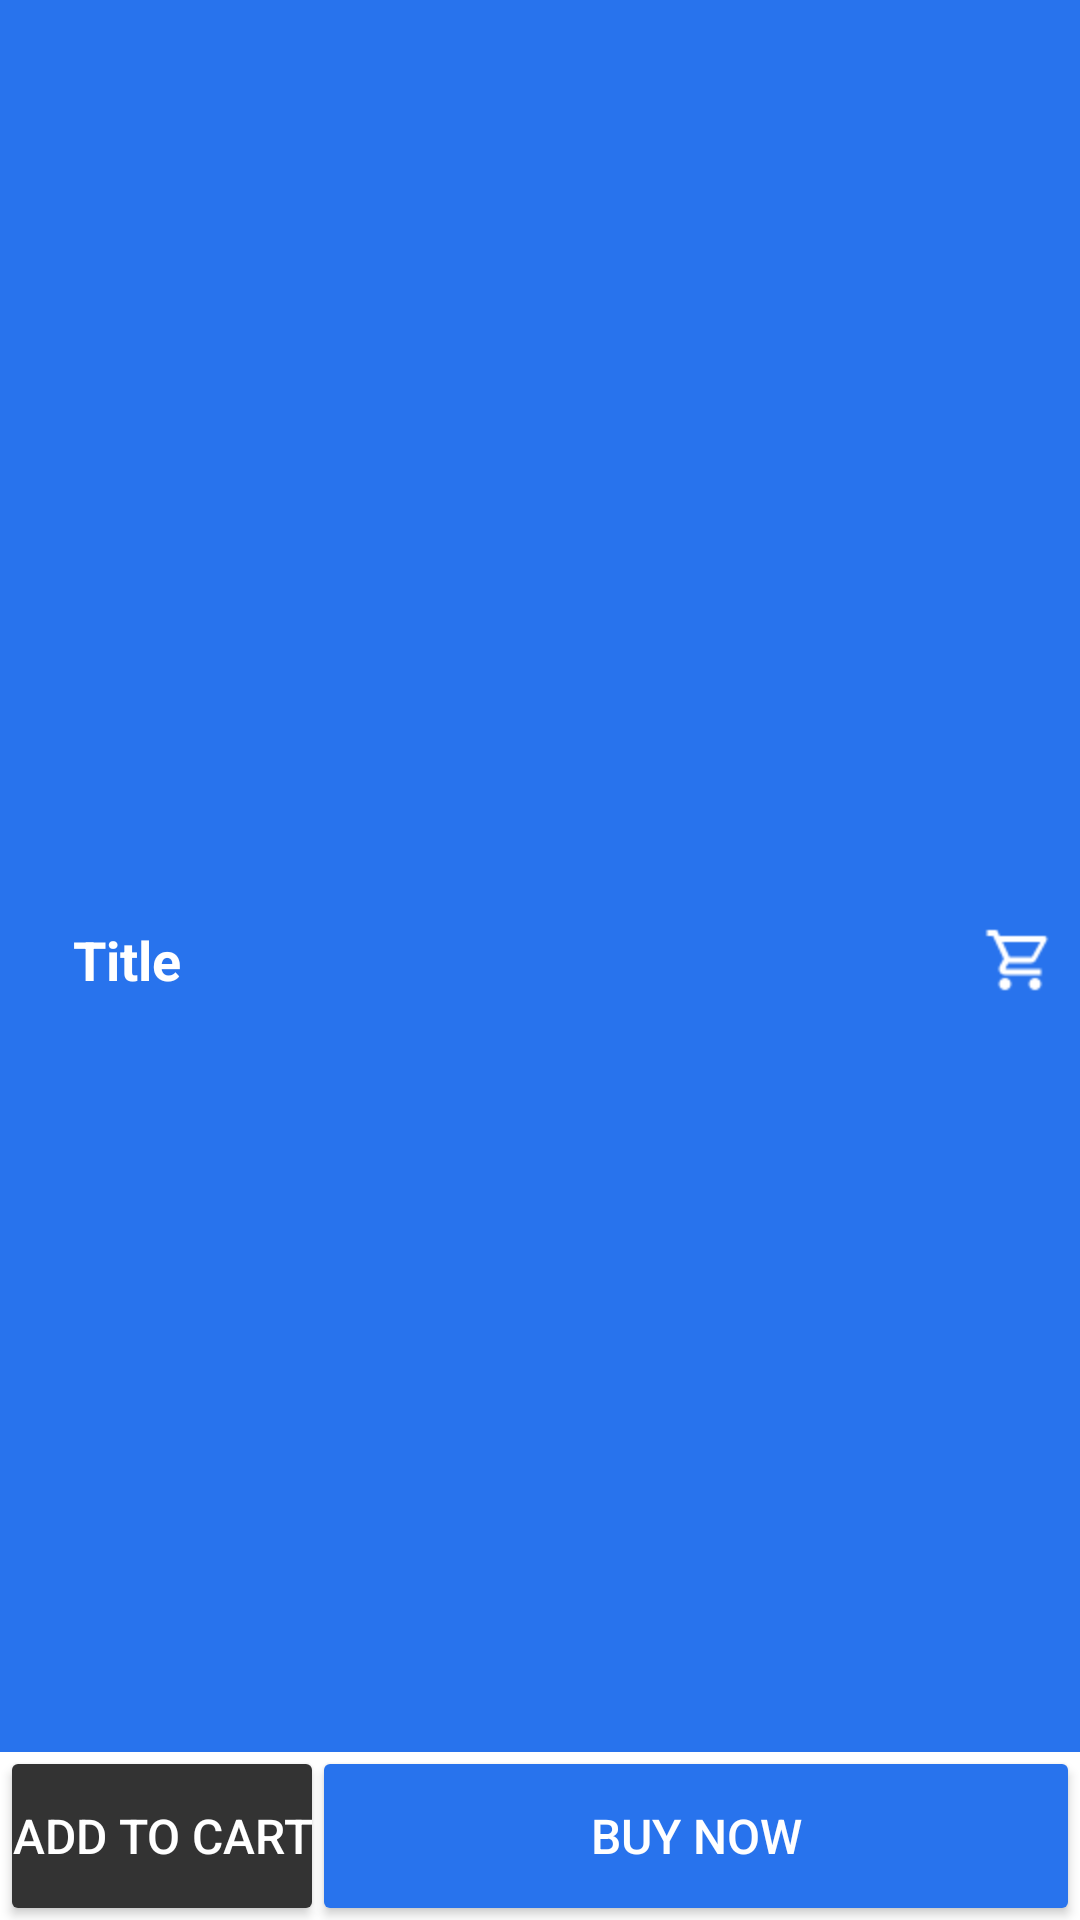

Icon bounding boxes for this 1080px×1920px phone screenshot, format (x1, y1, x2, y2):
cart: (985, 929, 1048, 991)
